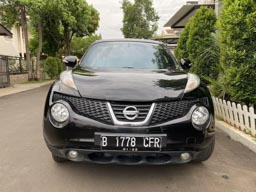plat: (100, 135, 161, 147)
